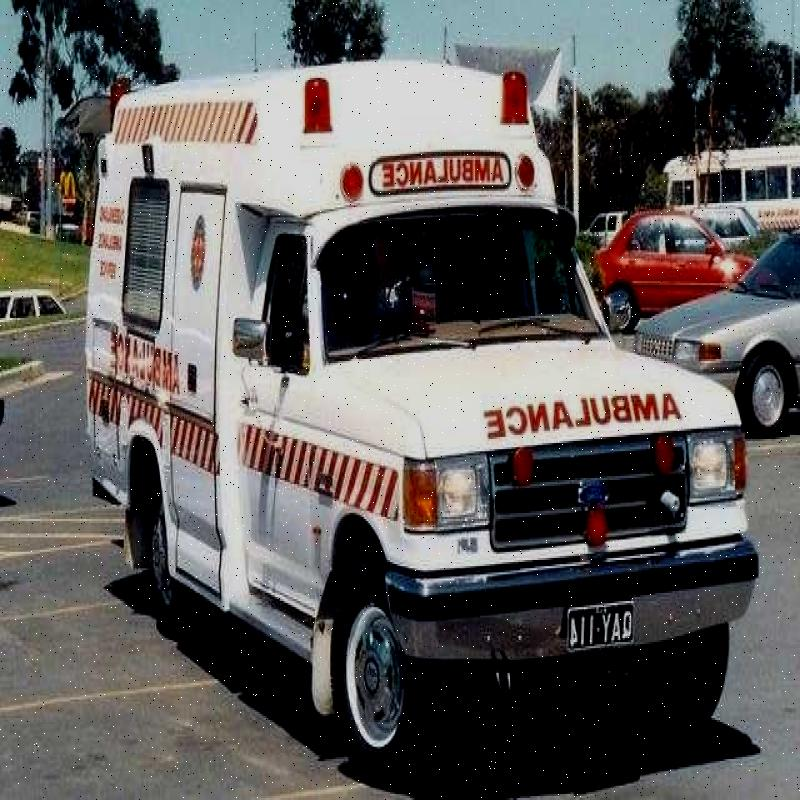AmbulanceSiren: (306, 50, 337, 162), (498, 57, 534, 148)
